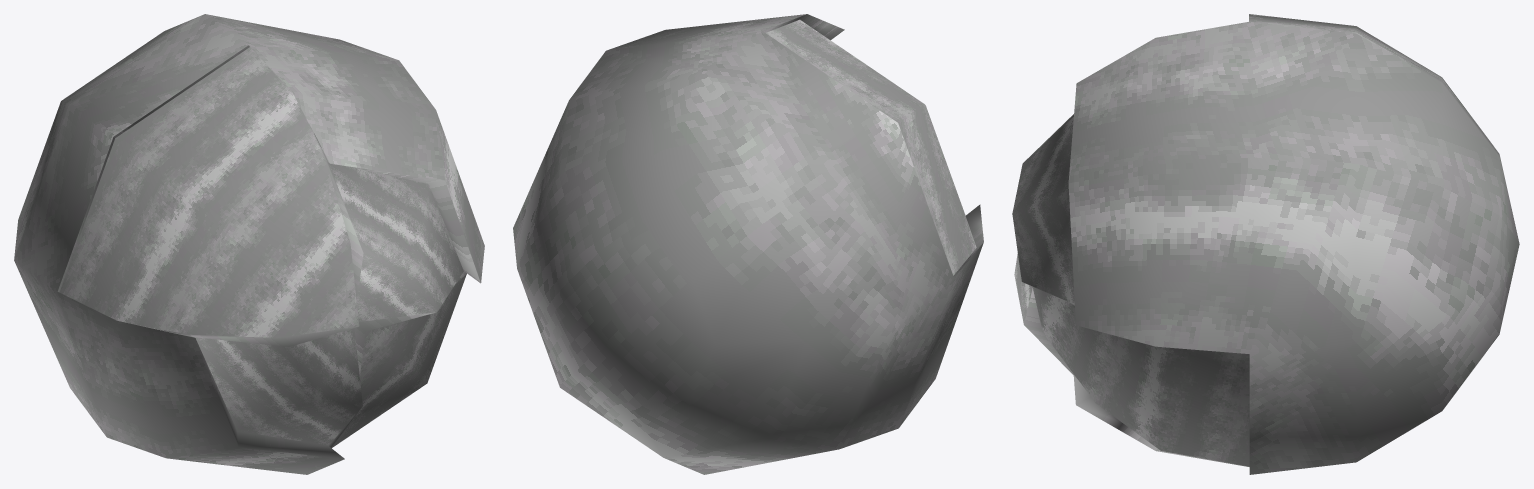
The model's file is Cabbage_Item.fbx.
3 renders of one model, left to right at view 1: azimuth 30°, elevation 25°; view 2: azimuth 150°, elevation 25°; view 3: azimuth 270°, elevation 25°, orthographic. The views are drawn at different scales.
Parts seen in each view (by area): view 1: Cabbage; view 2: Cabbage; view 3: Cabbage.
Part boxes in pixels (<box>): Cabbage: <box>14,14,484,474</box>; Cabbage: <box>513,14,983,474</box>; Cabbage: <box>1012,14,1519,474</box>.
Bounding box in the file's own units: 0.8625 × 0.8625 × 0.9053.
